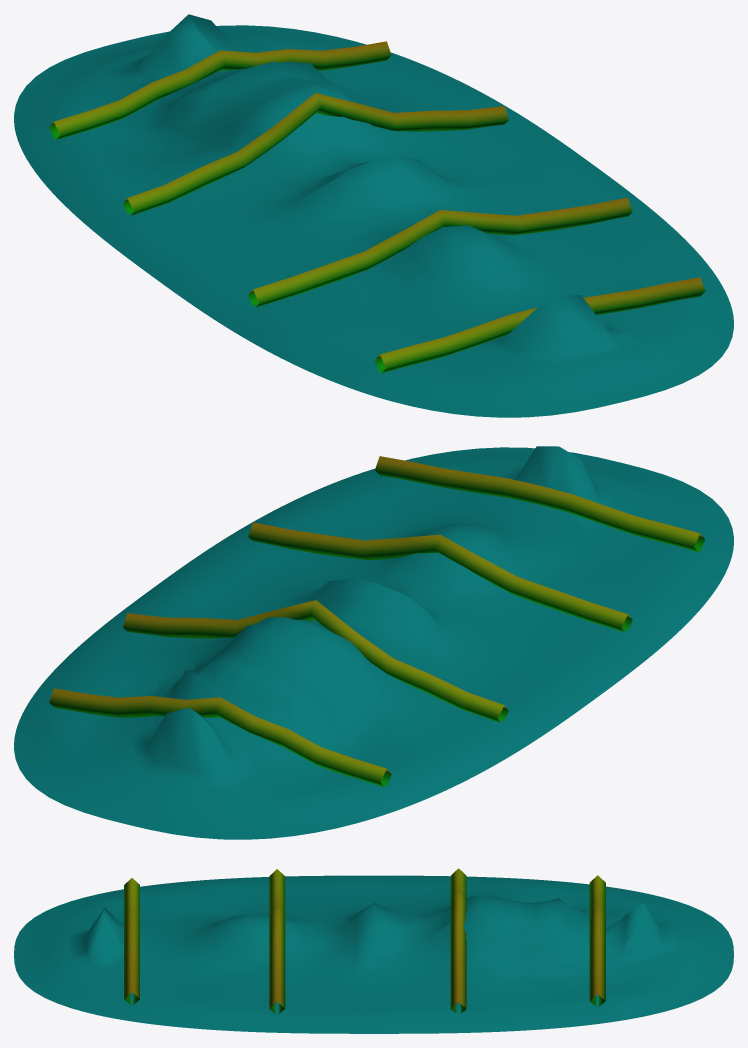
Rendered from shroud_bound_small.glb.
3 renders of one model, top to bottom at view 1: azimuth 30°, elevation 25°; view 2: azimuth 150°, elevation 25°; view 3: azimuth 270°, elevation 25°, orthographic. The views are drawn at different scales.
Parts seen in each view (by area): view 1: shroud_bound_small; view 2: shroud_bound_small; view 3: shroud_bound_small.
Boxes of the visible parts, left/top/right/bottom form: shroud_bound_small: left=14, top=14, right=733, bottom=417; shroud_bound_small: left=14, top=446, right=733, bottom=839; shroud_bound_small: left=14, top=868, right=733, bottom=1033.
Size of what is drawn, in the model's own units: 0.65 by 0.1203 by 1.25.
